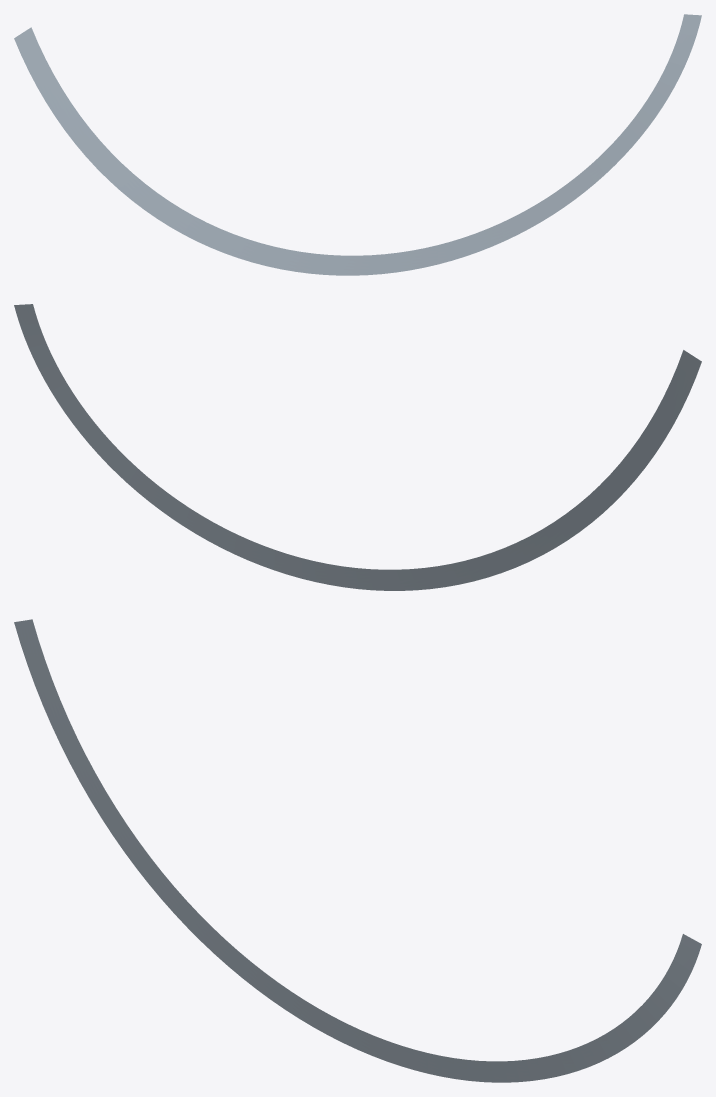
File: Sucrose_AstableAnemohypostasisCreation_ThreeTargets_GatheringWind_35_4.fbx
3 views of the same model, one above another, from view 1: azimuth 30°, elevation 25°; view 2: azimuth 150°, elevation 25°; view 3: azimuth 330°, elevation 25° (orthographic). The views are drawn at different scales.
Visible parts, largest first — view 1: PART_GatheringWind_35_4; view 2: PART_GatheringWind_35_4; view 3: PART_GatheringWind_35_4.
Boxes of the visible parts, left/top/right/bottom form: PART_GatheringWind_35_4: left=14, top=14, right=701, bottom=275; PART_GatheringWind_35_4: left=14, top=304, right=701, bottom=590; PART_GatheringWind_35_4: left=14, top=619, right=701, bottom=1082.
Size of the model in its own units: 308 by 141 by 16.98.
